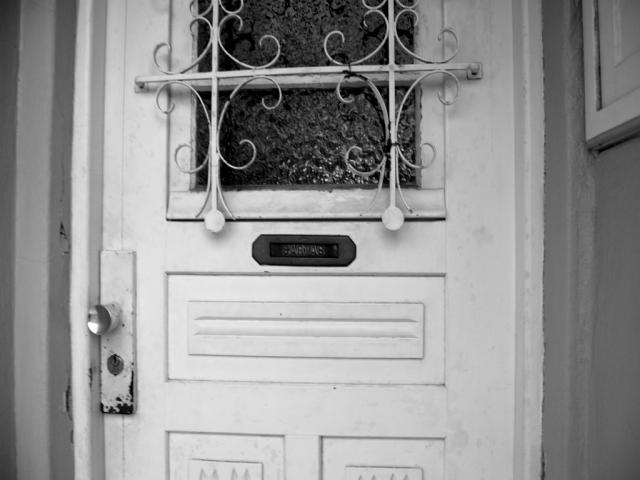Door-handle: (86, 247, 135, 415)
